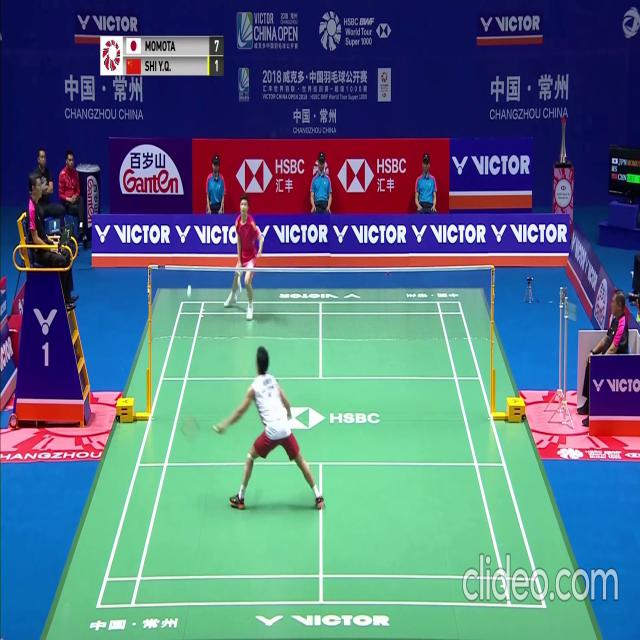Shuttlecock: (186, 291, 190, 298)
